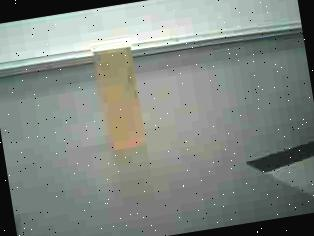Bottle A: (84, 29, 161, 160)
